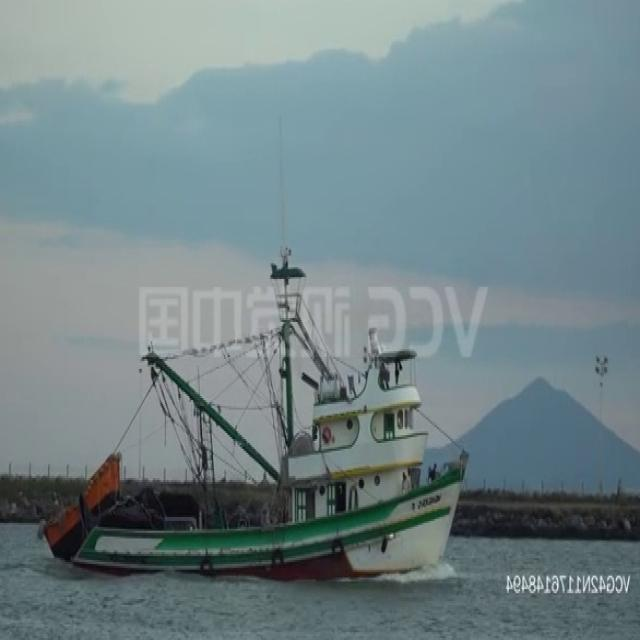fishing boat: (51, 290, 467, 578)
